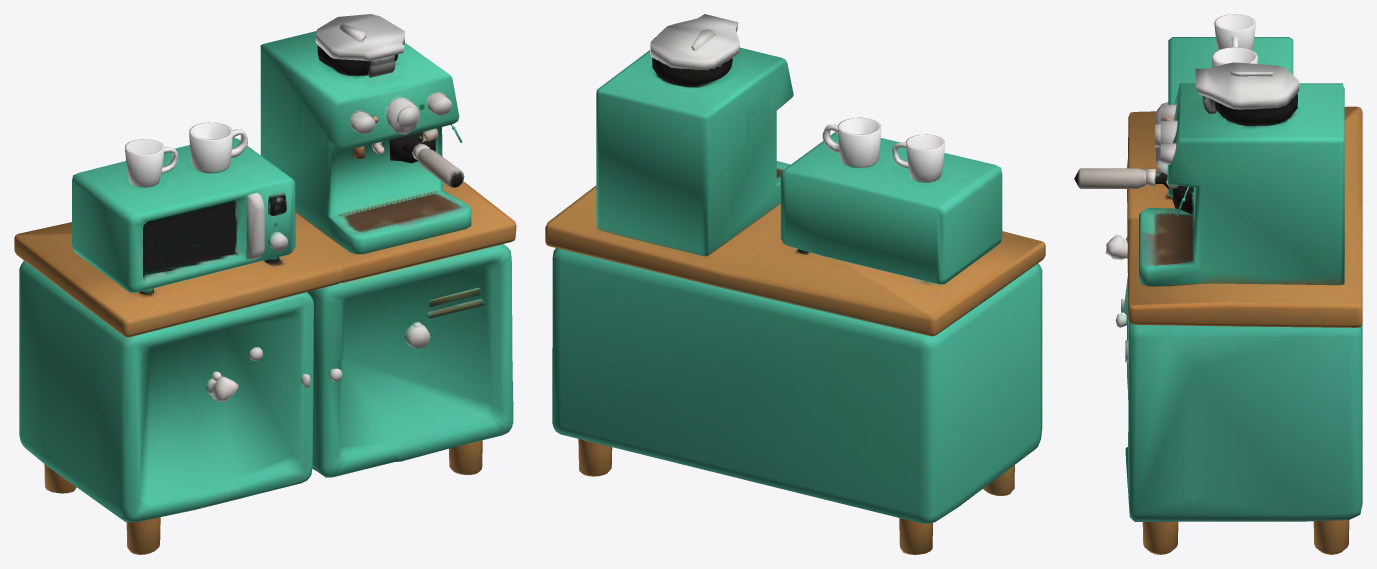
Rendered from Bank_Kitchenette.glb.
The picture shows the model from 3 angles, left to right: view 1: azimuth 30°, elevation 25°; view 2: azimuth 150°, elevation 25°; view 3: azimuth 270°, elevation 25°; orthographic projection. The views are drawn at different scales.
Parts seen in each view (by area): view 1: tripo_node_6a968f02-a199-4a36-a19e-858c78fa4232; view 2: tripo_node_6a968f02-a199-4a36-a19e-858c78fa4232; view 3: tripo_node_6a968f02-a199-4a36-a19e-858c78fa4232.
Boxes of the visible parts, <box> form: tripo_node_6a968f02-a199-4a36-a19e-858c78fa4232: <box>14,14,516,554</box>; tripo_node_6a968f02-a199-4a36-a19e-858c78fa4232: <box>545,14,1045,554</box>; tripo_node_6a968f02-a199-4a36-a19e-858c78fa4232: <box>1074,14,1362,554</box>.
Bounding box in the file's own units: 0.9609 × 1 × 0.5887.
1 material, 1 textured.
